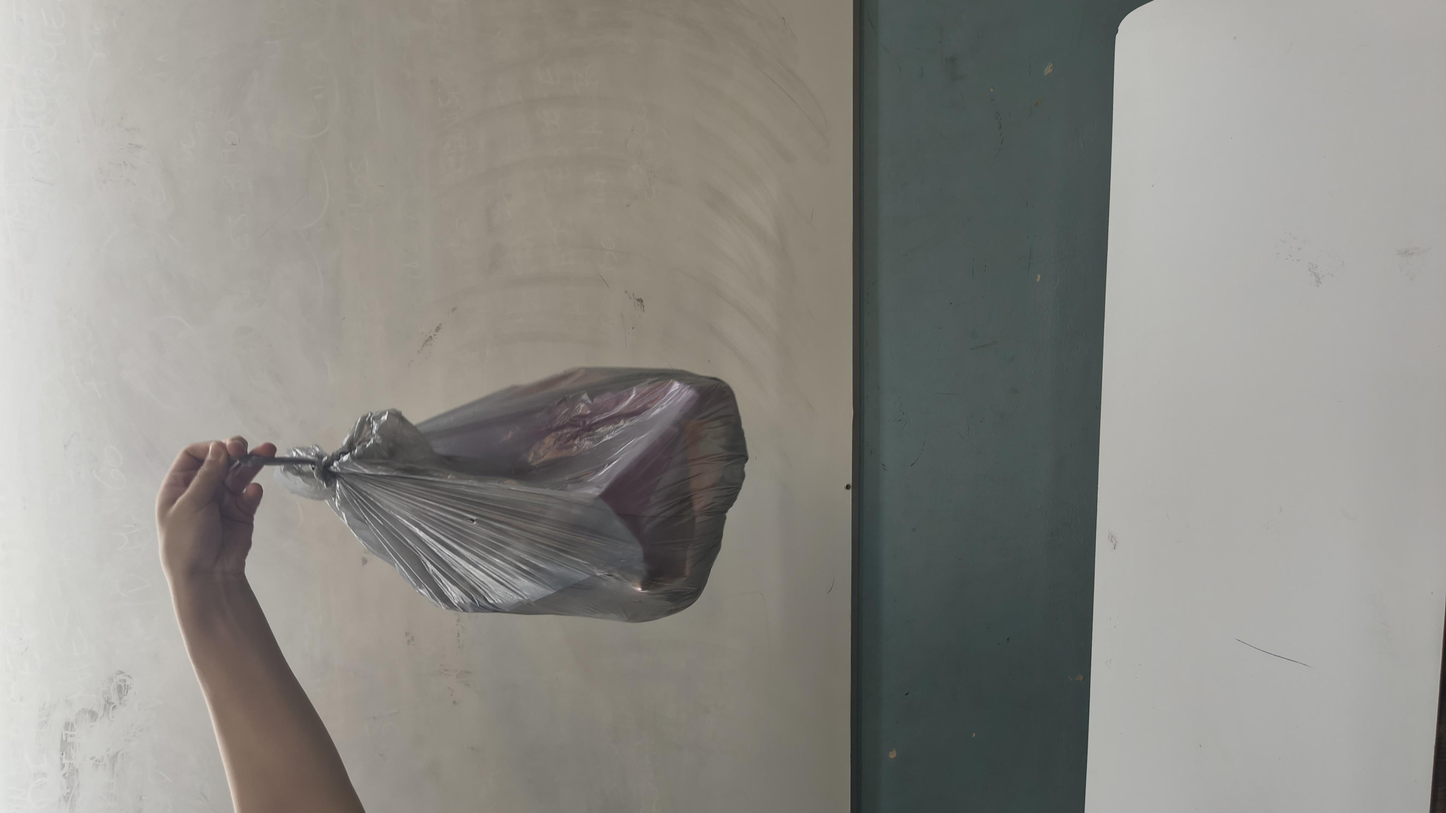Garbage: (301, 143, 872, 435)
